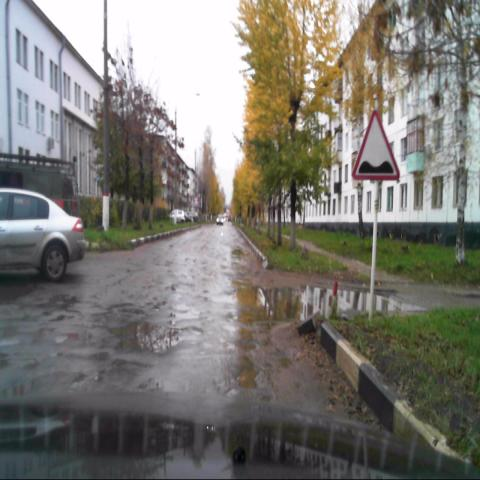1_16: (353, 108, 400, 179)
